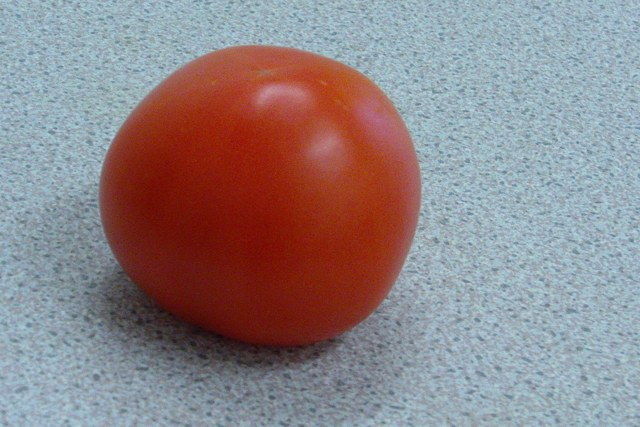tomato: (99, 46, 422, 352)
